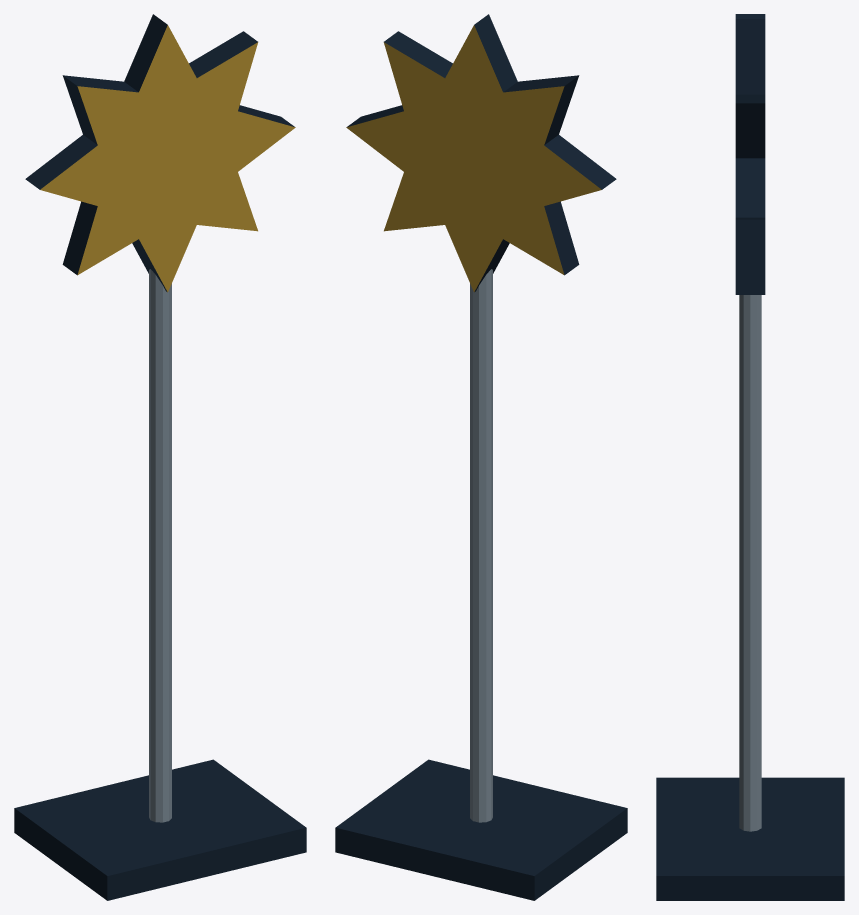
The model's file is stop_star.glb.
3 renders of one model, left to right at view 1: azimuth 30°, elevation 25°; view 2: azimuth 150°, elevation 25°; view 3: azimuth 270°, elevation 25°, orthographic.
Visible parts, largest first — view 1: StopStar; view 2: StopStar; view 3: StopStar.
Part boxes in pixels (bbox=[...]): StopStar: bbox=[14, 14, 306, 900]; StopStar: bbox=[335, 14, 627, 900]; StopStar: bbox=[656, 14, 844, 900].
Bounding box in the file's own units: 0.54 × 1.66 × 0.34.
